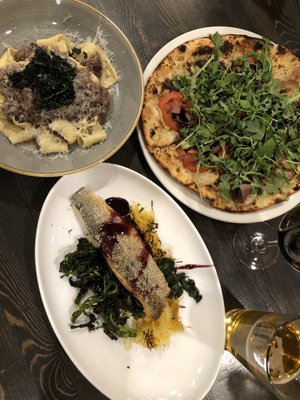sushi: (0, 0, 145, 178)
